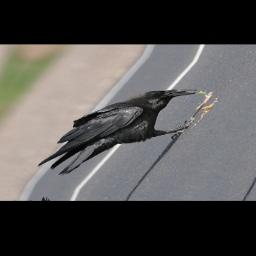Crow: (33, 79, 214, 185)
